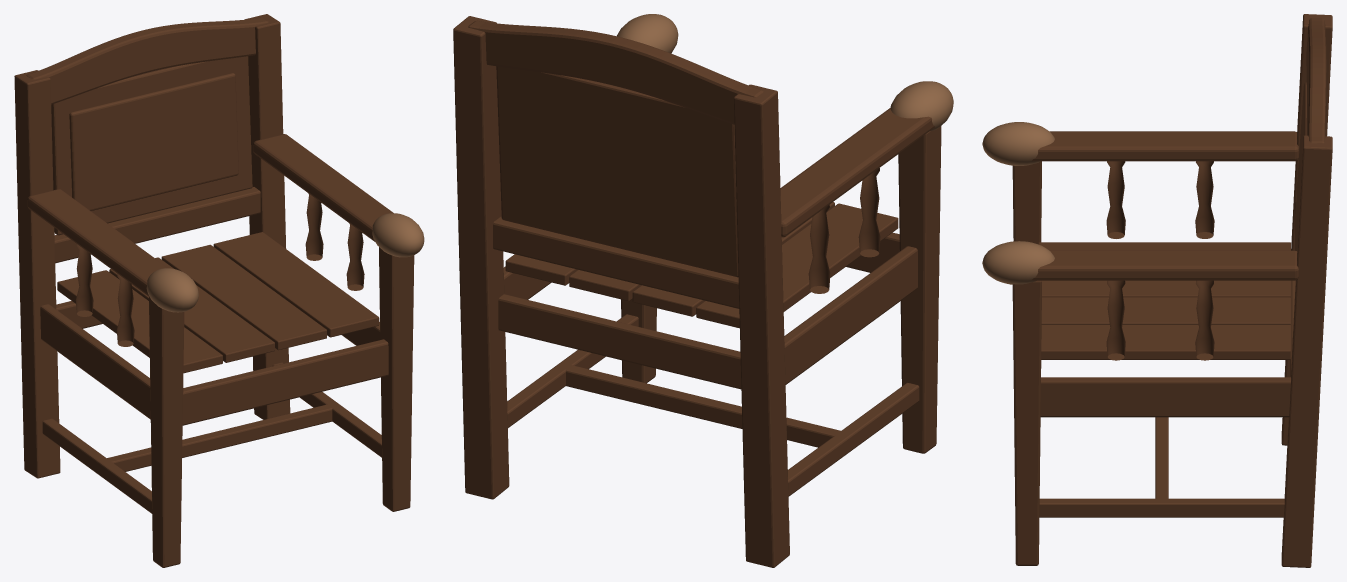
The model's file is Salon_GheDon.glb.
The picture shows the model from 3 angles, left to right: view 1: azimuth 30°, elevation 25°; view 2: azimuth 150°, elevation 25°; view 3: azimuth 270°, elevation 25°; orthographic projection. The views are drawn at different scales.
Parts seen in each view (by area): view 1: geometry_0; view 2: geometry_0; view 3: geometry_0.
Boxes of the visible parts, bbox=[...] form: geometry_0: bbox=[14, 14, 424, 567]; geometry_0: bbox=[453, 14, 953, 567]; geometry_0: bbox=[982, 14, 1332, 567].
Size of the model in its own units: 0.6175 by 0.8997 by 0.6511.
